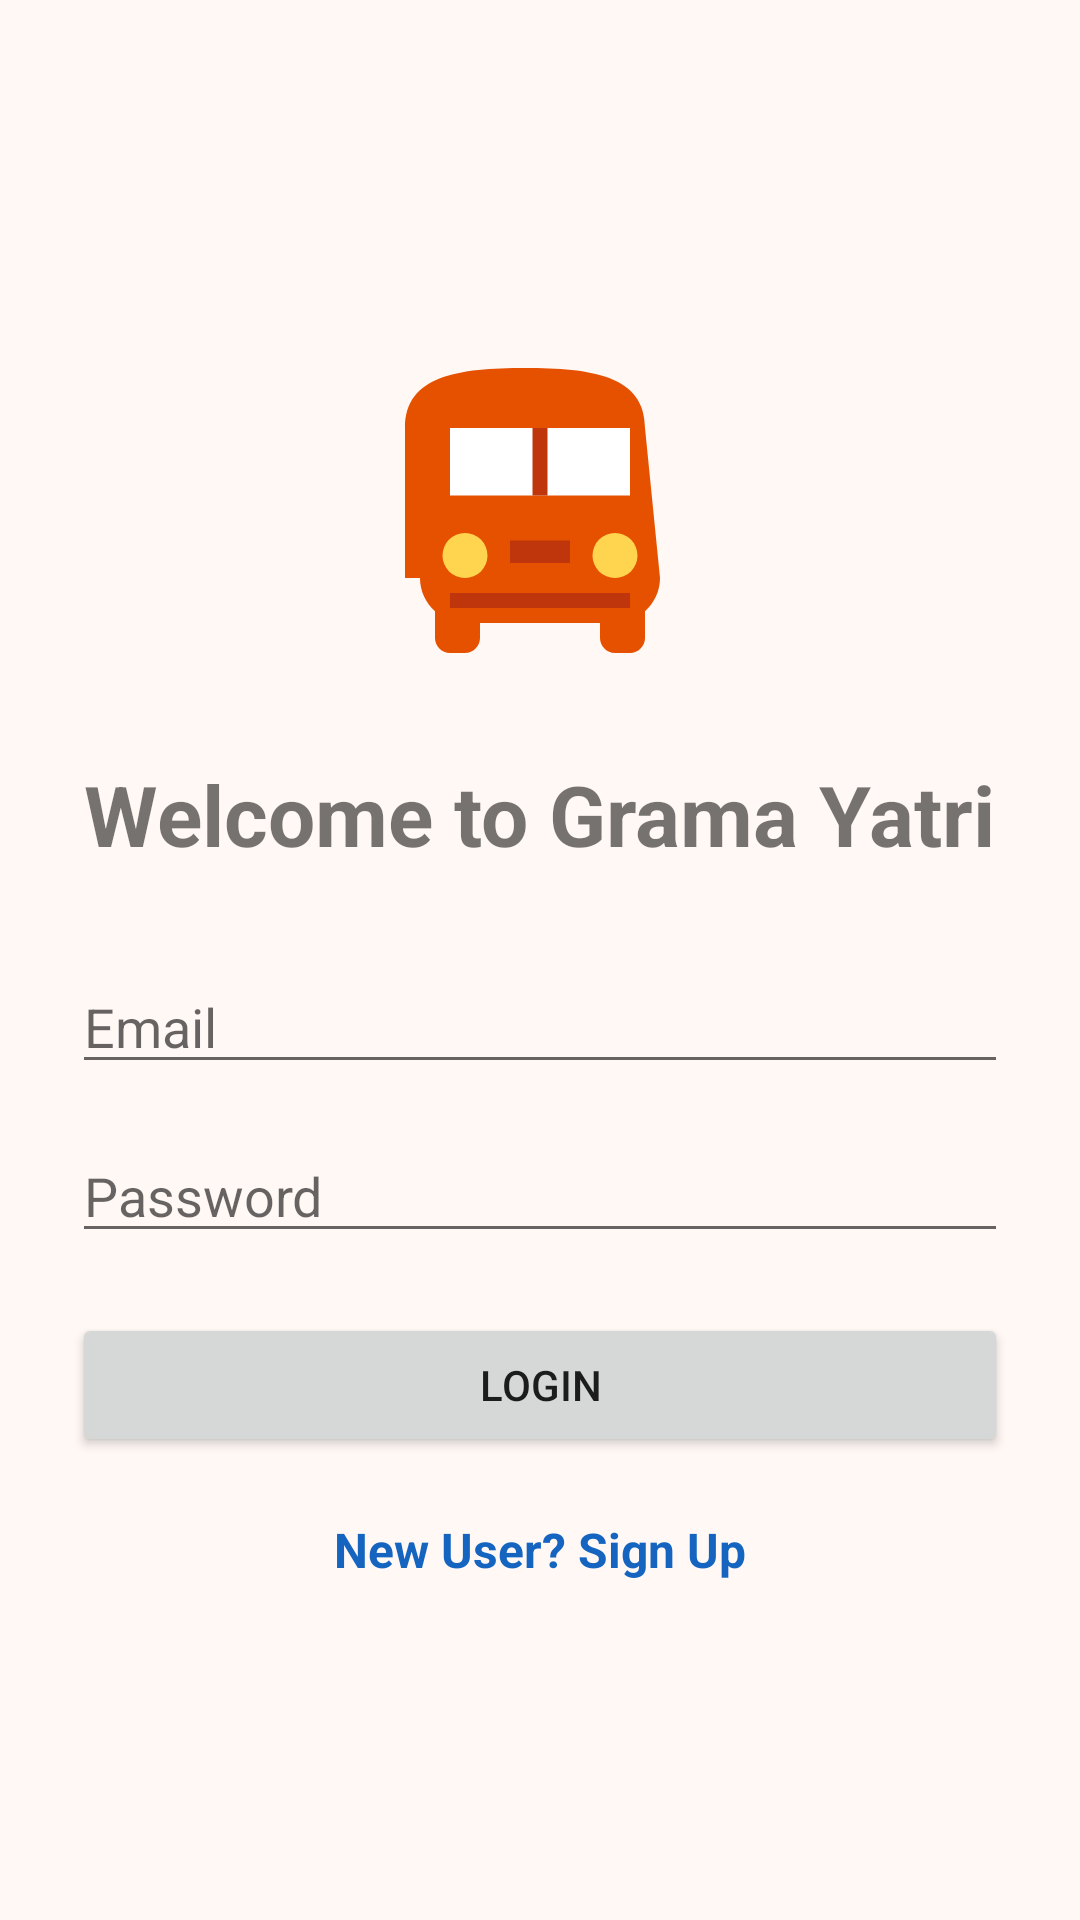

Icon bounding boxes for this 1080*1920 phone screenshot, format bbox(x1, y1, x2, y2):
bus beautiful: bbox(405, 368, 660, 653)
